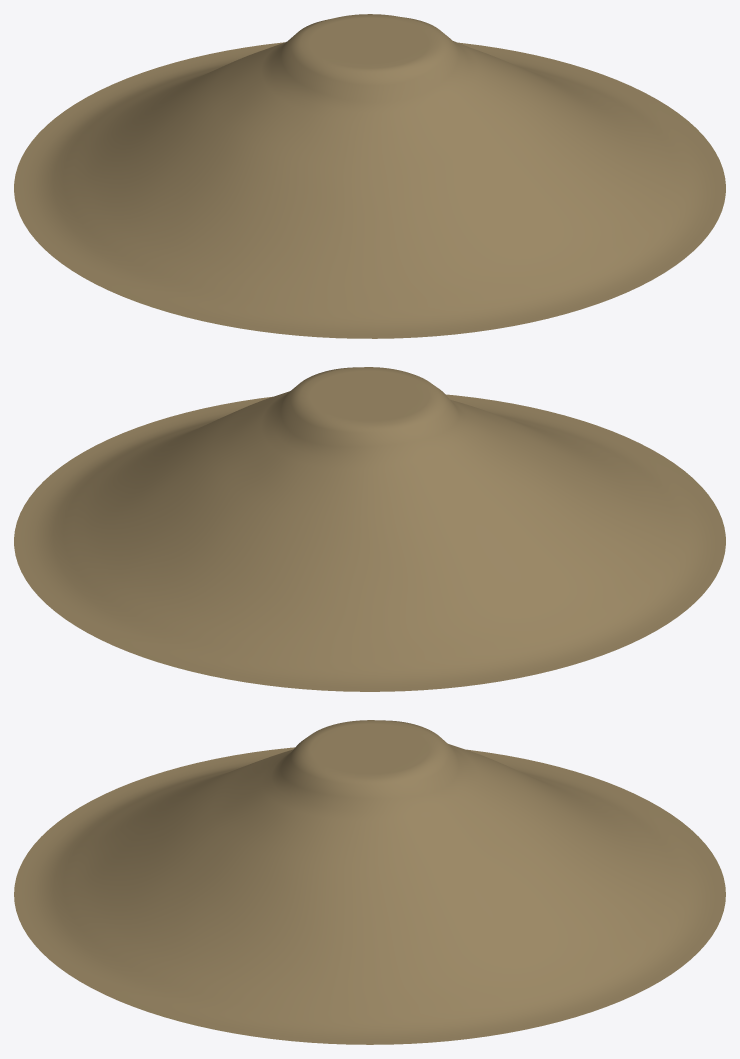
File: hill-v4.1.glb
3 views of the same model, one above another, from view 1: azimuth 30°, elevation 25°; view 2: azimuth 150°, elevation 25°; view 3: azimuth 270°, elevation 25° (orthographic).
Visible parts, largest first — view 1: hill_v4_1; view 2: hill_v4_1; view 3: hill_v4_1.
Part boxes in pixels (left/top/right/bottom): hill_v4_1: left=14, top=14, right=725, bottom=338; hill_v4_1: left=14, top=367, right=725, bottom=691; hill_v4_1: left=14, top=720, right=725, bottom=1044.
Bounding box in the file's own units: 2 × 0.45 × 2.
